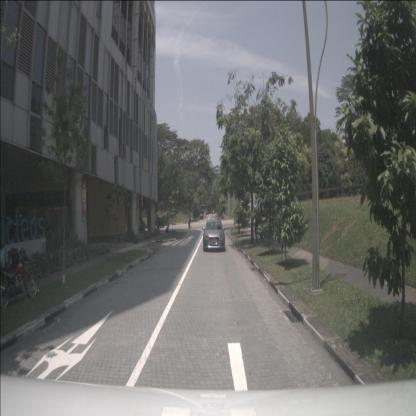human-pedestrian-adult: (188, 216, 192, 229), (187, 215, 190, 229), (166, 226, 170, 233)
vehicle-car: (203, 220, 225, 252), (202, 210, 206, 218)
vehicle-motorcycle: (0, 247, 39, 310)
vehicle-truck: (201, 205, 206, 216), (200, 210, 204, 219), (204, 208, 208, 215)
